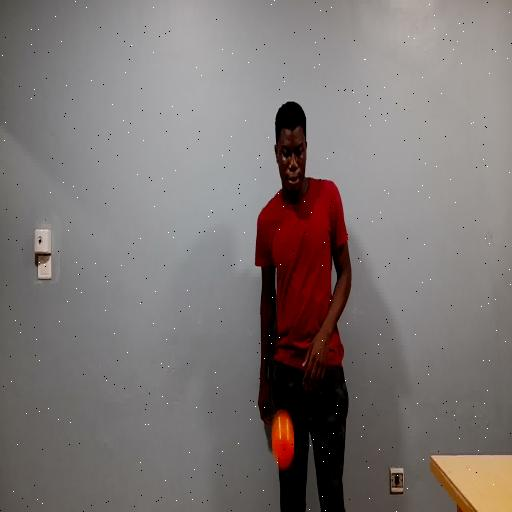plastic-ball: (262, 394, 308, 476)
